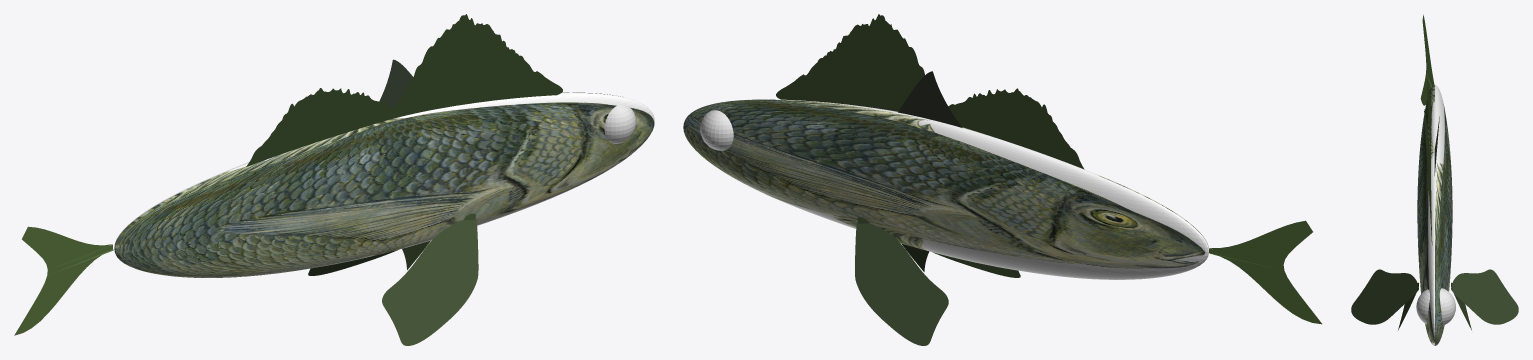
File: basic.glb
3 renders of one model, left to right at view 1: azimuth 30°, elevation 25°; view 2: azimuth 150°, elevation 25°; view 3: azimuth 270°, elevation 25°, orthographic. The views are drawn at different scales.
Parts seen in each view (by area): view 1: body, top_fin_2, side_fin_2, back_fin_1, eye, top_fin_1; view 2: body, top_fin_2, side_fin_2, back_fin_1, top_fin_1, eye; view 3: body, side_fin_2, eye, top_fin_2, back_fin_1, side_fin_1.
Part boxes in pixels (x1,y1,x2,y2): body: [114, 92, 654, 277]; top_fin_2: [246, 14, 562, 166]; side_fin_2: [308, 218, 478, 345]; back_fin_1: [14, 226, 113, 335]; eye: [604, 104, 635, 143]; top_fin_1: [379, 59, 413, 109]; body: [683, 99, 1208, 279]; top_fin_2: [776, 14, 1084, 169]; side_fin_2: [855, 221, 1020, 345]; back_fin_1: [1209, 220, 1321, 324]; top_fin_1: [898, 71, 962, 127]; eye: [700, 110, 733, 150]; body: [1417, 85, 1452, 345]; side_fin_2: [1351, 269, 1518, 324]; eye: [1416, 288, 1455, 325]; top_fin_2: [1424, 79, 1432, 245]; back_fin_1: [1420, 14, 1434, 105]; side_fin_1: [1398, 282, 1471, 330].
Size of the model in its own units: 24.62 by 10.08 by 6.28.
Materials: 7 (1 with a texture image).
